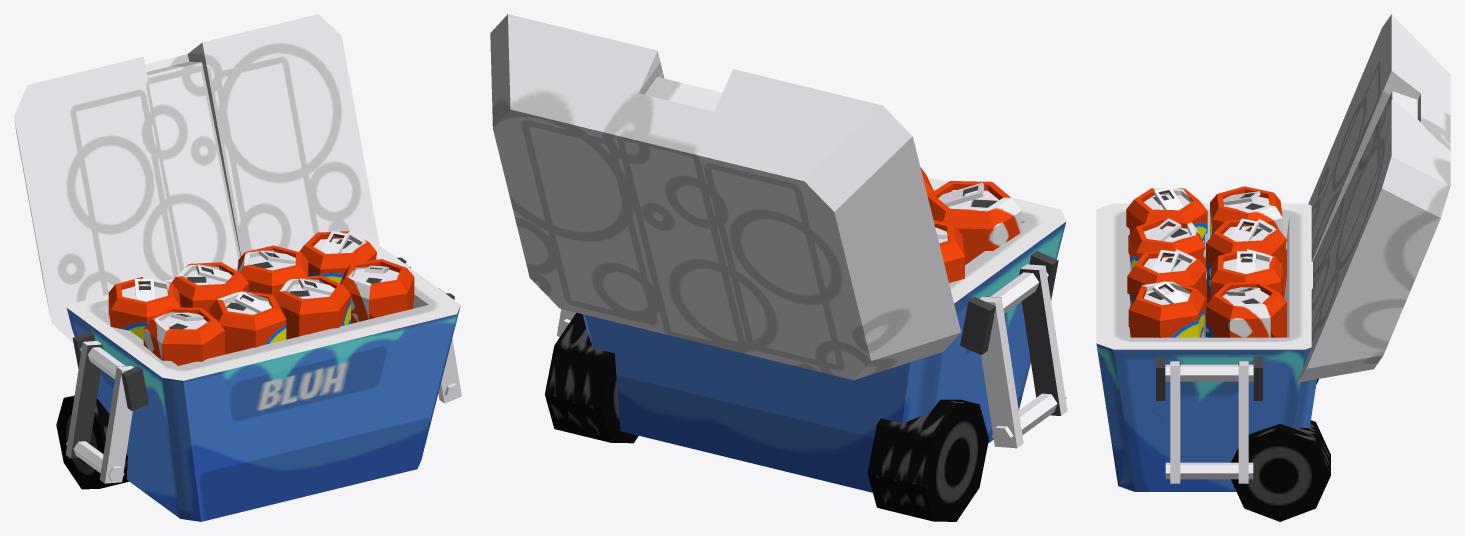
File: coolerBeer.fbx
3 renders of one model, left to right at view 1: azimuth 30°, elevation 25°; view 2: azimuth 150°, elevation 25°; view 3: azimuth 270°, elevation 25°, orthographic. The views are drawn at different scales.
Visible parts, largest first — view 1: coolerOpen|coolerLid|Dupli|0.1, coolerOpen|coolerBase|Dupli|, coolerOpen|handle|Dupli|0.2, beerCans.003|beerCan|Dupli|, beerCans.005|beerCan|Dupli|, beerCans.007|beerCan|Dupli|, beerCans.001|beerCan|Dupli|, beerCans.002|beerCan|Dupli|, beerCans.006|beerCan|Dupli|, beerCans|beerCan|Dupli|, beerCans.004|beerCan|Dupli|, coolerOpen|wheels|Dupli|3 (+2 smaller); view 2: coolerOpen|coolerLid|Dupli|0.1, coolerOpen|coolerBase|Dupli|, coolerOpen|wheels|Dupli|3, coolerOpen|handle|Dupli|0.2, beerCans.003|beerCan|Dupli|, coolerOpen|handlebrace|Dupli|1.2, beerCans.002|beerCan|Dupli|; view 3: coolerOpen|coolerLid|Dupli|0.1, coolerOpen|coolerBase|Dupli|, coolerOpen|wheels|Dupli|3, coolerOpen|handle|Dupli|0.1, beerCans.006|beerCan|Dupli|, beerCans.007|beerCan|Dupli|, beerCans|beerCan|Dupli|, beerCans.003|beerCan|Dupli|, beerCans.005|beerCan|Dupli|, beerCans.001|beerCan|Dupli|, beerCans.004|beerCan|Dupli|, beerCans.002|beerCan|Dupli| (+1 smaller).
Boxes of the visible parts, x1,y1,x2,y2 form: coolerOpen|coolerLid|Dupli|0.1: (14,14,379,343); coolerOpen|coolerBase|Dupli|: (66,233,460,521); coolerOpen|handle|Dupli|0.2: (65,341,133,483); beerCans.003|beerCan|Dupli|: (143,307,224,365); beerCans.005|beerCan|Dupli|: (275,275,350,339); beerCans.007|beerCan|Dupli|: (340,259,414,323); beerCans.001|beerCan|Dupli|: (209,290,286,354); beerCans.002|beerCan|Dupli|: (108,277,180,340); beerCans.006|beerCan|Dupli|: (299,231,376,283); beerCans|beerCan|Dupli|: (171,262,248,313); beerCans.004|beerCan|Dupli|: (237,245,308,296); coolerOpen|wheels|Dupli|3: (56,395,128,489); coolerOpen|coolerLid|Dupli|0.1: (490,14,960,380); coolerOpen|coolerBase|Dupli|: (582,177,1066,492); coolerOpen|wheels|Dupli|3: (545,312,988,521); coolerOpen|handle|Dupli|0.2: (980,264,1067,448); beerCans.003|beerCan|Dupli|: (927,181,1021,265); coolerOpen|handlebrace|Dupli|1.2: (960,251,1058,354); beerCans.002|beerCan|Dupli|: (933,220,964,282); coolerOpen|coolerLid|Dupli|0.1: (1296,14,1450,382); coolerOpen|coolerBase|Dupli|: (1096,203,1316,491); coolerOpen|wheels|Dupli|3: (1231,379,1330,521); coolerOpen|handle|Dupli|0.1: (1165,361,1253,483); beerCans.006|beerCan|Dupli|: (1206,281,1286,337); beerCans.007|beerCan|Dupli|: (1128,280,1205,337); beerCans|beerCan|Dupli|: (1206,218,1286,303); beerCans.003|beerCan|Dupli|: (1126,187,1207,266); beerCans.005|beerCan|Dupli|: (1127,249,1206,337); beerCans.001|beerCan|Dupli|: (1128,218,1205,270); beerCans.004|beerCan|Dupli|: (1210,249,1282,298); beerCans.002|beerCan|Dupli|: (1210,186,1282,237).
Size of the model in its own units: 239 by 233 by 205.
